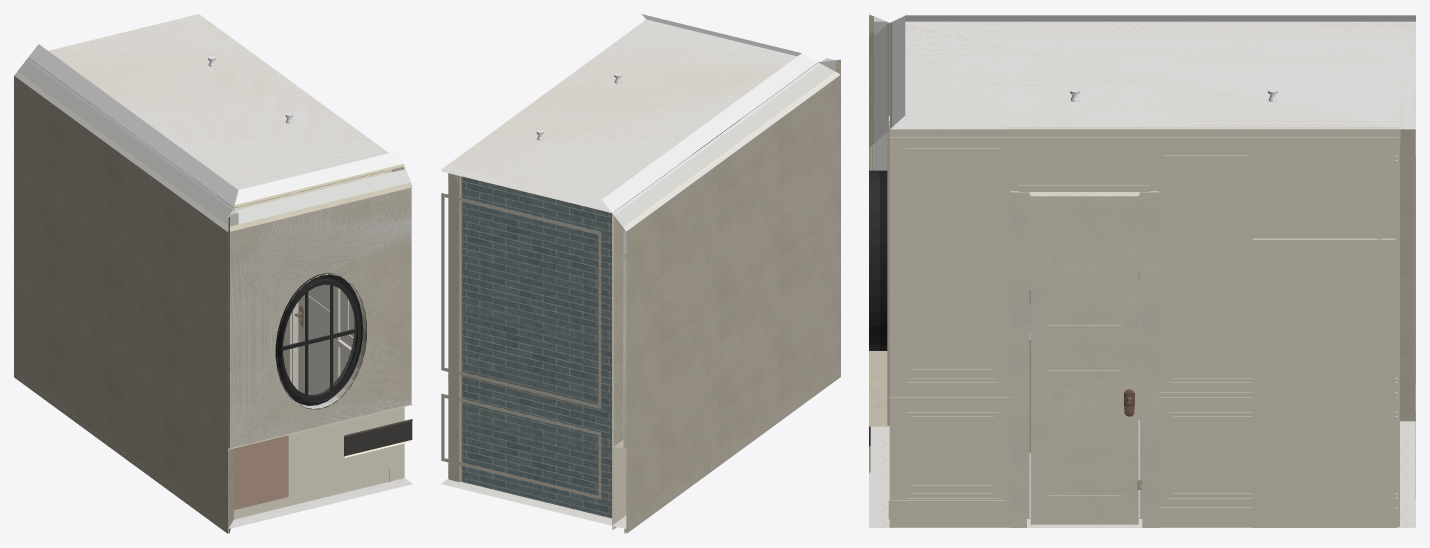
The model's file is blue-bath-a9e80684b3e9.glb.
3 views of the same model, side by side, from view 1: azimuth 30°, elevation 25°; view 2: azimuth 150°, elevation 25°; view 3: azimuth 270°, elevation 25° (orthographic). The views are drawn at different scales.
Parts seen in each view (by area): view 1: blue-bath-312b4ac1be39223d, blue-bath-bddaf205afbd60c0, blue-bath-e8793759323e04f0, blue-bath-9d91b47435c6fb33, blue-bath-33ee0b466567e5f0, blue-bath-df3e1f21720b0c39, blue-bath-d227da791438a32f, blue-bath-2f7d8eff34a2c180, blue-bath-39b94aca90fa4b53, blue-bath-bb2a37e95c56944b, blue-bath-bf159a19de53e60e, blue-bath-64753ebcb3824a84 (+7 smaller); view 2: blue-bath-312b4ac1be39223d, blue-bath-81319d6284883901, blue-bath-9d91b47435c6fb33, blue-bath-e8793759323e04f0, blue-bath-33ee0b466567e5f0, blue-bath-39b94aca90fa4b53, blue-bath-ed5fdcd3ee9c0dd5, blue-bath-3a4d9d62ecd7be1c, blue-bath-06754748489735a0, blue-bath-6e269356ae8bfd70, blue-bath-b63ee86b16afd4c0, blue-bath-0e16aad907f7d881 (+1 smaller); view 3: blue-bath-9d91b47435c6fb33, blue-bath-ed5fdcd3ee9c0dd5, blue-bath-ead09a0b3f9e3bd9, blue-bath-bf159a19de53e60e, blue-bath-3e649b0d114ae387, blue-bath-e8793759323e04f0, blue-bath-8798d08755b4aa77, blue-bath-8f5d8501f6e548f5, blue-bath-6e269356ae8bfd70, blue-bath-0e16aad907f7d881, blue-bath-d8e4d1e2b1f6ec6c, blue-bath-d227da791438a32f (+18 smaller).
Boxes of the visible parts, left/top/right/bottom form: blue-bath-312b4ac1be39223d: left=14, top=73, right=229, bottom=449; blue-bath-bddaf205afbd60c0: left=230, top=182, right=411, bottom=447; blue-bath-e8793759323e04f0: left=30, top=14, right=403, bottom=204; blue-bath-9d91b47435c6fb33: left=28, top=14, right=404, bottom=207; blue-bath-33ee0b466567e5f0: left=14, top=293, right=228, bottom=533; blue-bath-df3e1f21720b0c39: left=229, top=184, right=412, bottom=448; blue-bath-d227da791438a32f: left=275, top=273, right=366, bottom=409; blue-bath-2f7d8eff34a2c180: left=228, top=404, right=412, bottom=533; blue-bath-39b94aca90fa4b53: left=17, top=60, right=238, bottom=226; blue-bath-bb2a37e95c56944b: left=234, top=435, right=288, bottom=509; blue-bath-bf159a19de53e60e: left=298, top=183, right=335, bottom=394; blue-bath-64753ebcb3824a84: left=235, top=169, right=410, bottom=407; blue-bath-312b4ac1be39223d: left=624, top=59, right=840, bottom=449; blue-bath-81319d6284883901: left=462, top=177, right=611, bottom=518; blue-bath-9d91b47435c6fb33: left=441, top=19, right=817, bottom=212; blue-bath-e8793759323e04f0: left=442, top=14, right=815, bottom=210; blue-bath-33ee0b466567e5f0: left=612, top=293, right=840, bottom=533; blue-bath-39b94aca90fa4b53: left=614, top=58, right=835, bottom=447; blue-bath-ed5fdcd3ee9c0dd5: left=449, top=173, right=460, bottom=482; blue-bath-3a4d9d62ecd7be1c: left=612, top=61, right=821, bottom=446; blue-bath-06754748489735a0: left=441, top=193, right=601, bottom=408; blue-bath-6e269356ae8bfd70: left=441, top=170, right=618, bottom=524; blue-bath-b63ee86b16afd4c0: left=441, top=393, right=601, bottom=499; blue-bath-0e16aad907f7d881: left=441, top=478, right=626, bottom=528; blue-bath-9d91b47435c6fb33: left=890, top=21, right=1415, bottom=129; blue-bath-ed5fdcd3ee9c0dd5: left=1005, top=127, right=1399, bottom=526; blue-bath-ead09a0b3f9e3bd9: left=1252, top=238, right=1395, bottom=527; blue-bath-bf159a19de53e60e: left=1030, top=195, right=1138, bottom=524; blue-bath-3e649b0d114ae387: left=889, top=121, right=1005, bottom=499; blue-bath-e8793759323e04f0: left=892, top=15, right=1415, bottom=126; blue-bath-8798d08755b4aa77: left=1010, top=191, right=1158, bottom=527; blue-bath-8f5d8501f6e548f5: left=889, top=129, right=1398, bottom=146; blue-bath-6e269356ae8bfd70: left=1398, top=127, right=1415, bottom=527; blue-bath-0e16aad907f7d881: left=869, top=421, right=1415, bottom=527; blue-bath-d8e4d1e2b1f6ec6c: left=906, top=156, right=998, bottom=382; blue-bath-d227da791438a32f: left=869, top=170, right=887, bottom=350.
Bounding box in the file's own units: 1.8 × 3.04 × 3.6.
Materials: 34 (6 with a texture image).
